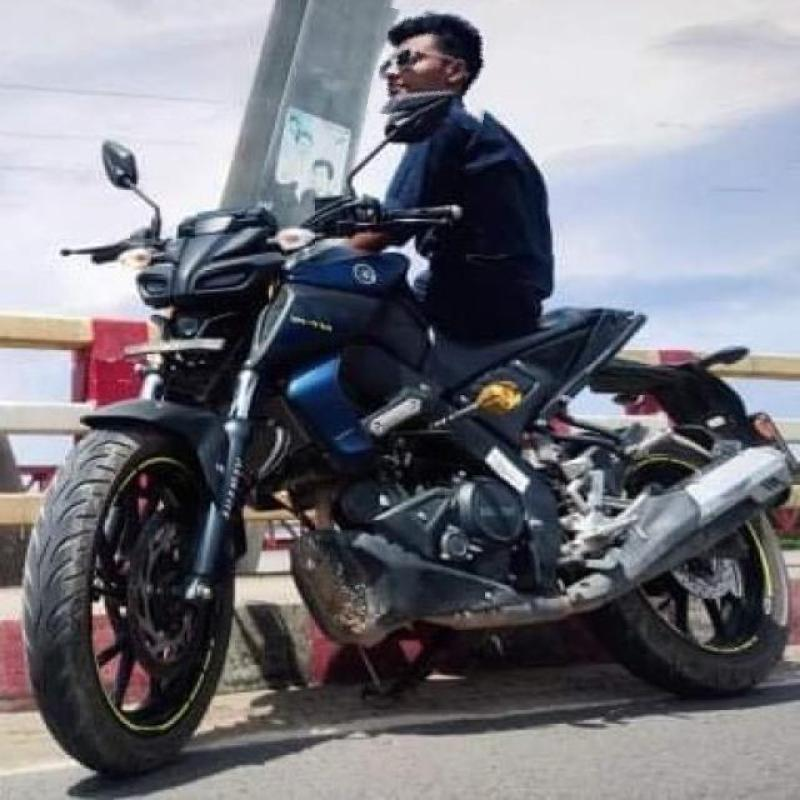nohelmet: (370, 12, 495, 127)
